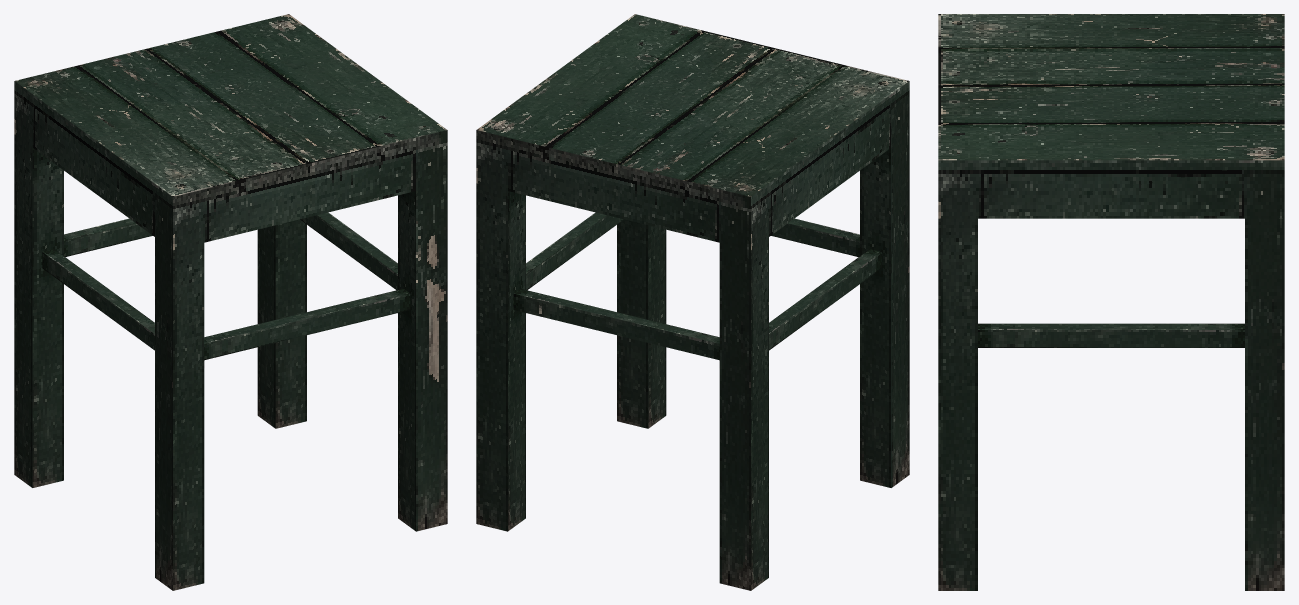
The model's file is stool.glb.
3 renders of one model, left to right at view 1: azimuth 30°, elevation 25°; view 2: azimuth 150°, elevation 25°; view 3: azimuth 270°, elevation 25°, orthographic. The views are drawn at different scales.
Parts seen in each view (by area): view 1: Object_2; view 2: Object_2; view 3: Object_2.
Part boxes in pixels (bbox=[...]): Object_2: bbox=[14, 14, 447, 590]; Object_2: bbox=[476, 14, 909, 590]; Object_2: bbox=[938, 14, 1284, 590].
Size of the model in its own units: 0.35 by 0.48 by 0.35.
Materials: 1 (1 with a texture image).
